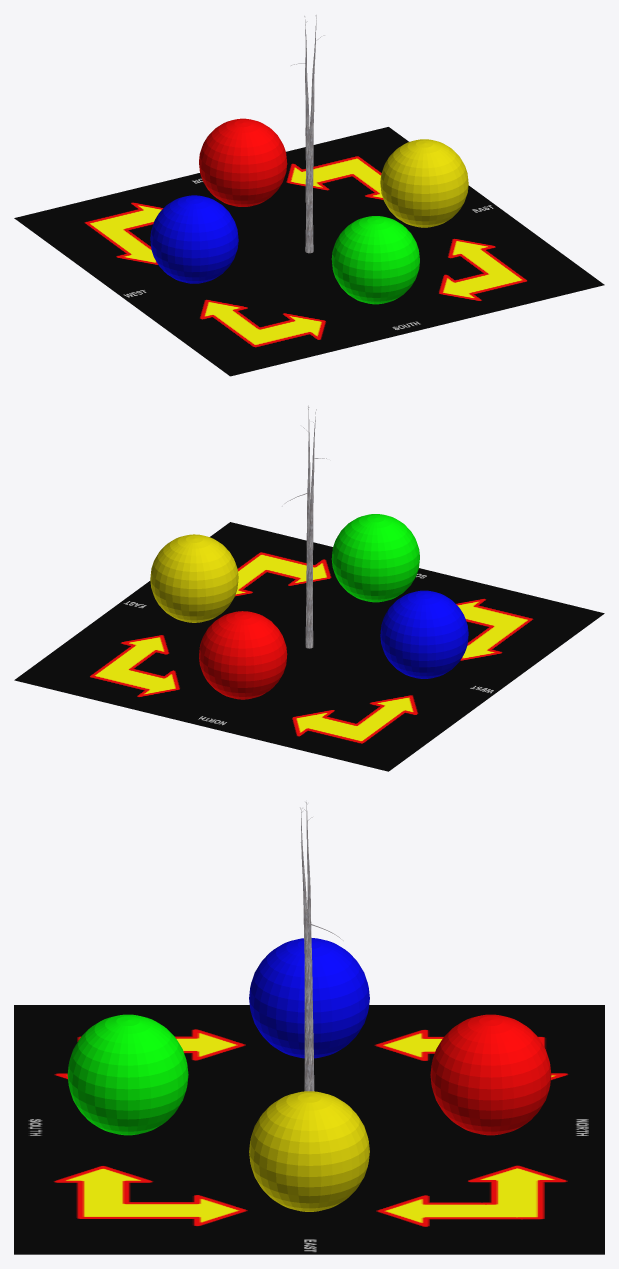
File: THISExplained.glb
3 renders of one model, top to bottom at view 1: azimuth 30°, elevation 25°; view 2: azimuth 150°, elevation 25°; view 3: azimuth 270°, elevation 25°, orthographic. The views are drawn at different scales.
Parts seen in each view (by area): view 1: tree.001; view 2: tree.001; view 3: tree.001.
Part boxes in pixels (x1,y1,x2,y2): tree.001: (14, 15, 604, 376); tree.001: (14, 405, 604, 771); tree.001: (14, 802, 604, 1254).
Size of the model in its own units: 9.77 by 5.94 by 9.77.
6 materials, 2 textured.
